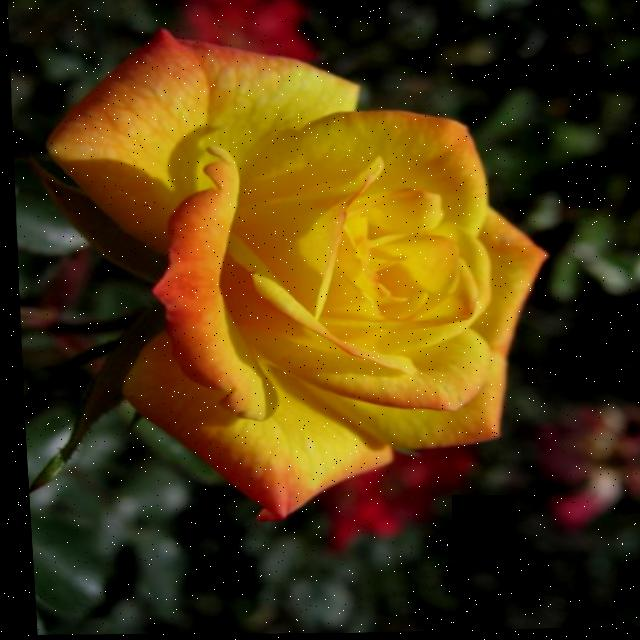rose: (7, 5, 560, 533)
